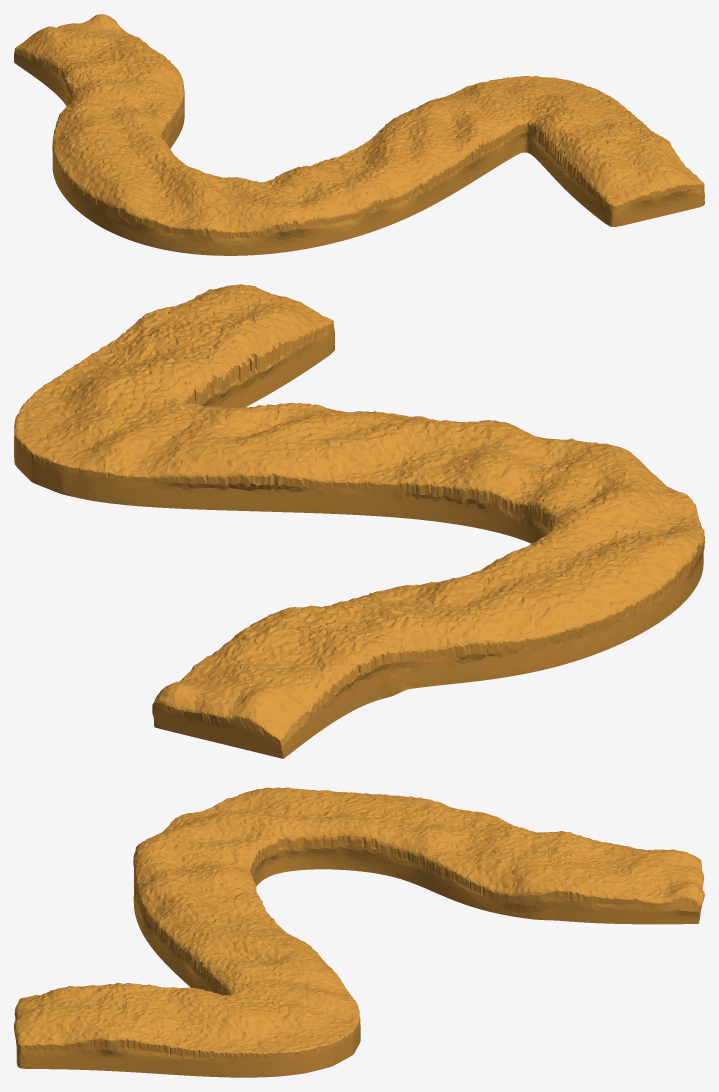
The model's file is Pathway_01_LOD1.glb.
3 renders of one model, top to bottom at view 1: azimuth 30°, elevation 25°; view 2: azimuth 150°, elevation 25°; view 3: azimuth 270°, elevation 25°, orthographic. The views are drawn at different scales.
Visible parts, largest first — view 1: Tube; view 2: Tube; view 3: Tube.
Part boxes in pixels (left/top/right/bottom): Tube: left=14, top=14, right=704, bottom=255; Tube: left=14, top=284, right=704, bottom=758; Tube: left=14, top=787, right=704, bottom=1077.
Bounding box in the file's own units: 16.29 × 1.4 × 18.43.
